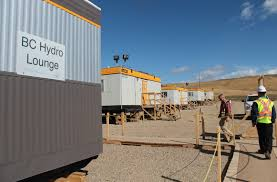helmet: (258, 85, 267, 92)
vest: (256, 99, 274, 124)
